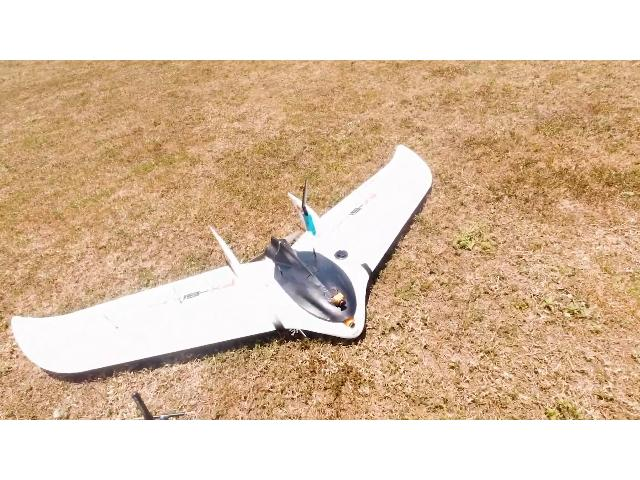Anti-Drone: (9, 118, 454, 394)
